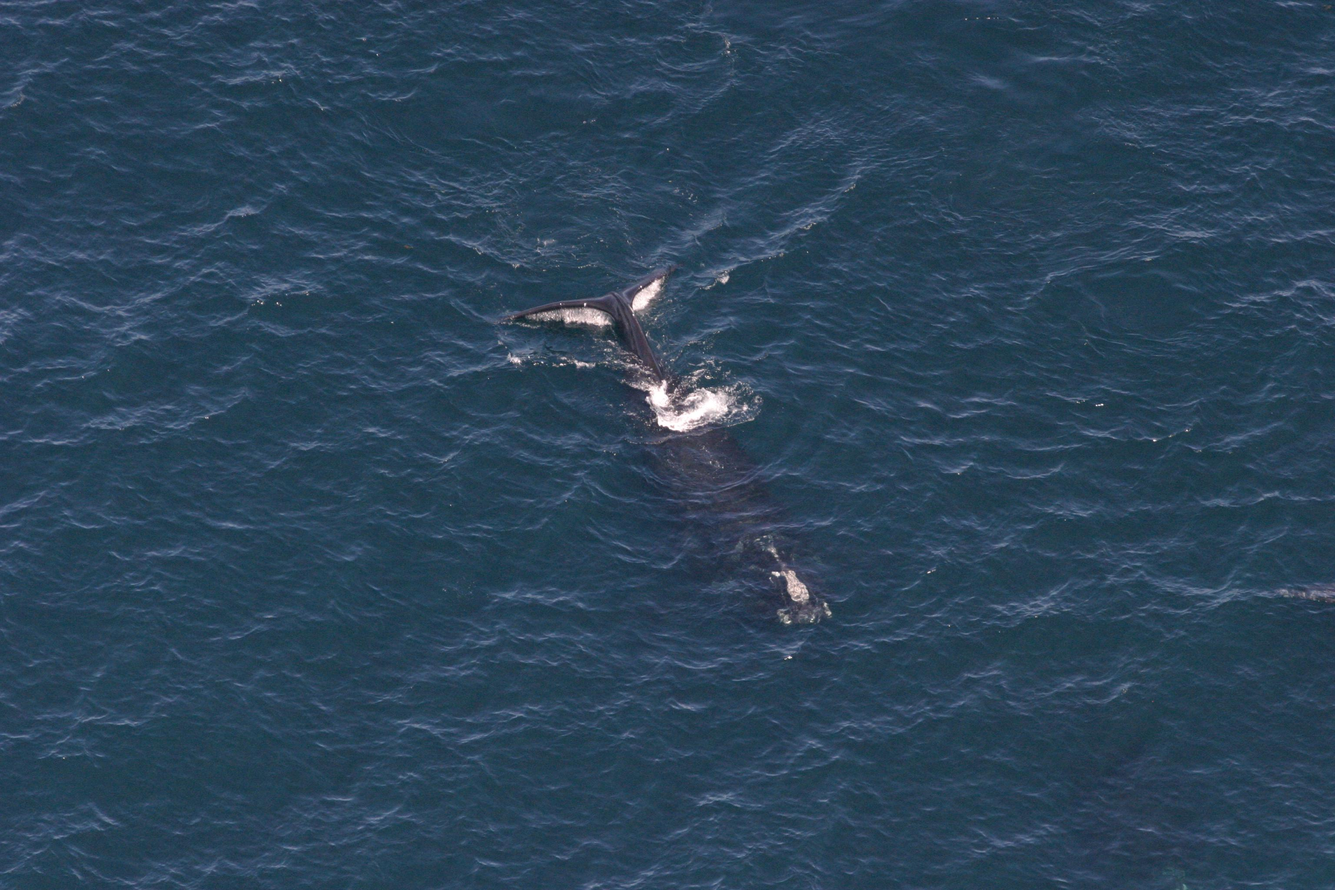whale: (494, 259, 840, 674)
